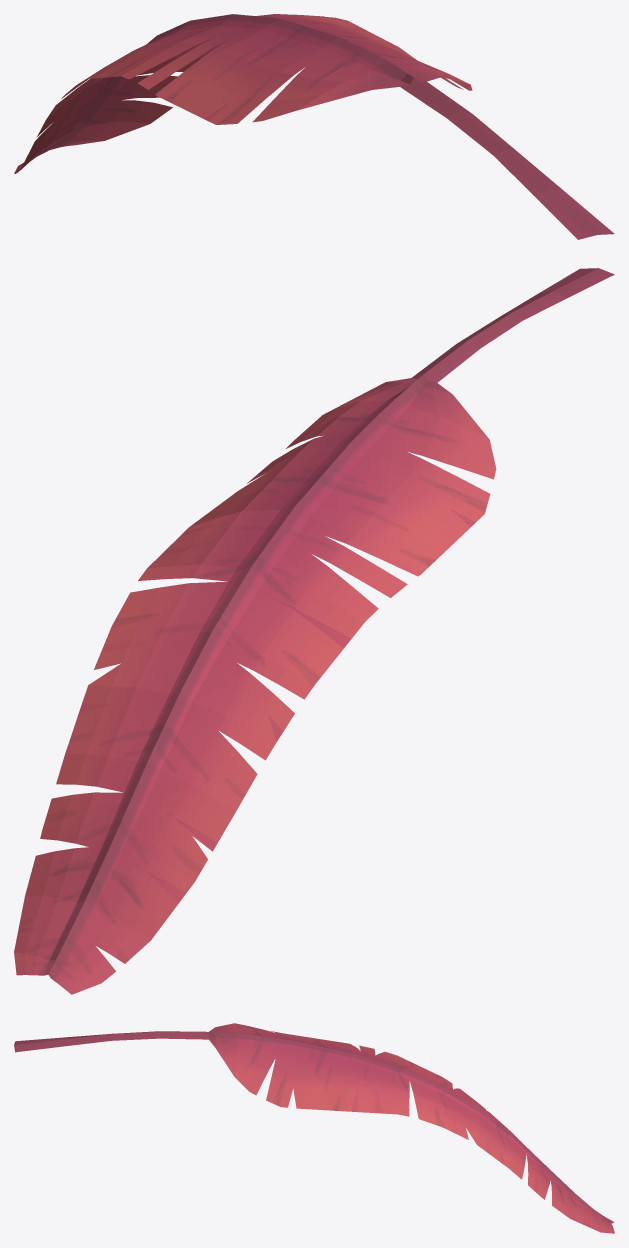
File: palmLeafB.glb
3 views of the same model, one above another, from view 1: azimuth 30°, elevation 25°; view 2: azimuth 150°, elevation 25°; view 3: azimuth 270°, elevation 25° (orthographic). The views are drawn at different scales.
Parts seen in each view (by area): view 1: palmLeaf1.001; view 2: palmLeaf1.001; view 3: palmLeaf1.001.
Boxes of the visible parts, x1,y1,x2,y2 form: palmLeaf1.001: (14,14,614,239); palmLeaf1.001: (14,268,614,994); palmLeaf1.001: (14,1023,614,1233).
Bounding box in the file's own units: 2.59 × 3.69 × 10.32.
1 material, 1 textured.
